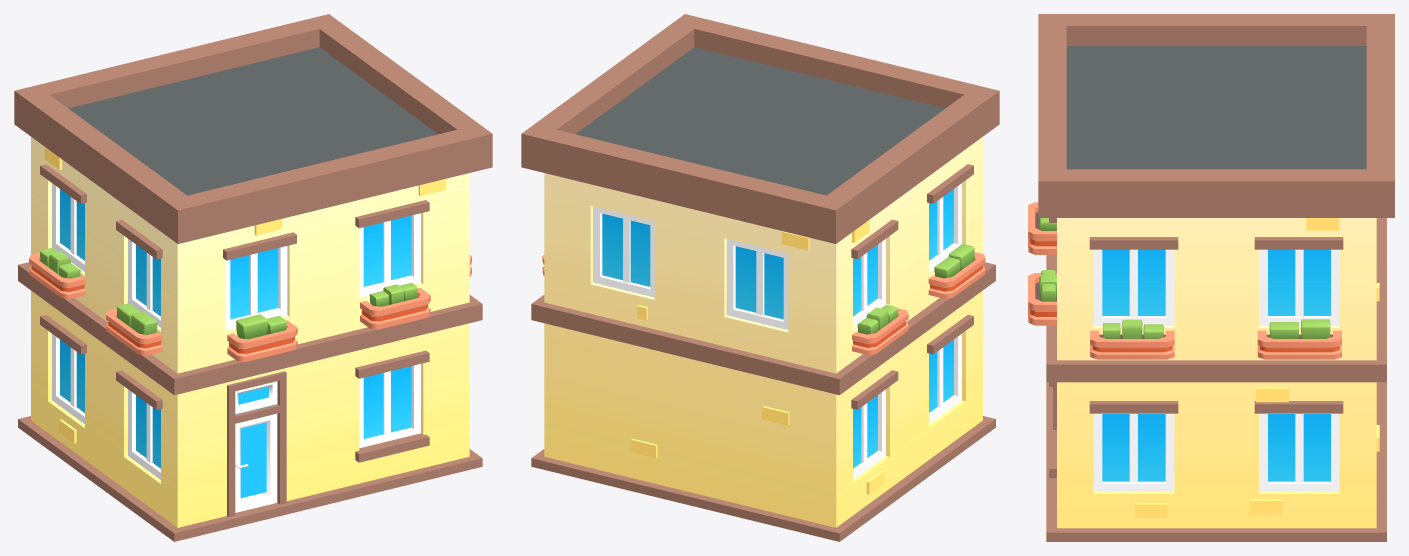
The model's file is city2-building-living-03.glb.
3 views of the same model, side by side, from view 1: azimuth 30°, elevation 25°; view 2: azimuth 150°, elevation 25°; view 3: azimuth 270°, elevation 25° (orthographic). The views are drawn at different scales.
Visible parts, largest first — view 1: Building_Living_03; view 2: Building_Living_03; view 3: Building_Living_03.
Part boxes in pixels (x1,y1,x2,y2): Building_Living_03: [14, 14, 492, 541]; Building_Living_03: [521, 14, 999, 541]; Building_Living_03: [1028, 14, 1394, 541].
Bounding box in the file's own units: 8.19 × 7.83 × 7.15.
1 material, 1 textured.
